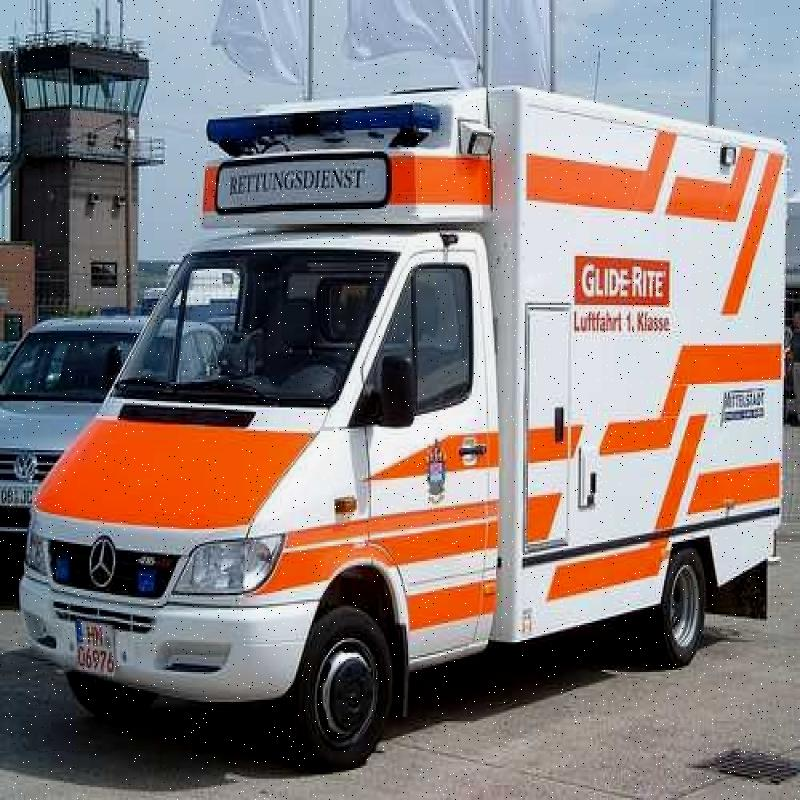AmbulanceSiren: (204, 84, 457, 146)
